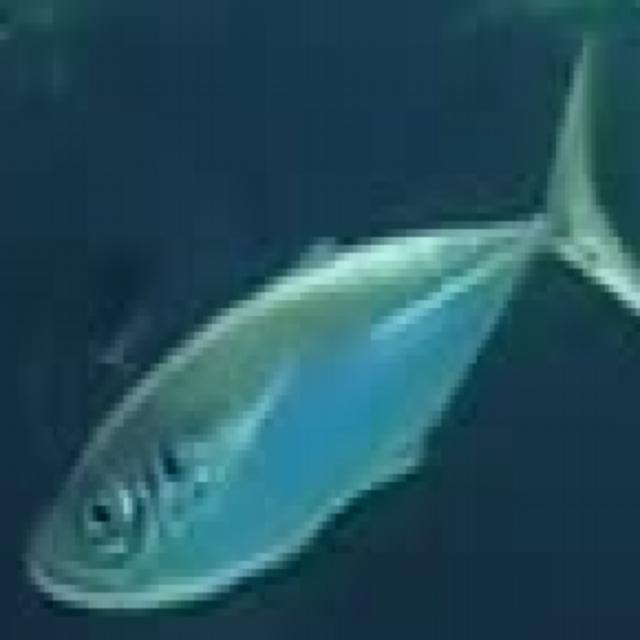fish: (4, 8, 640, 640)
